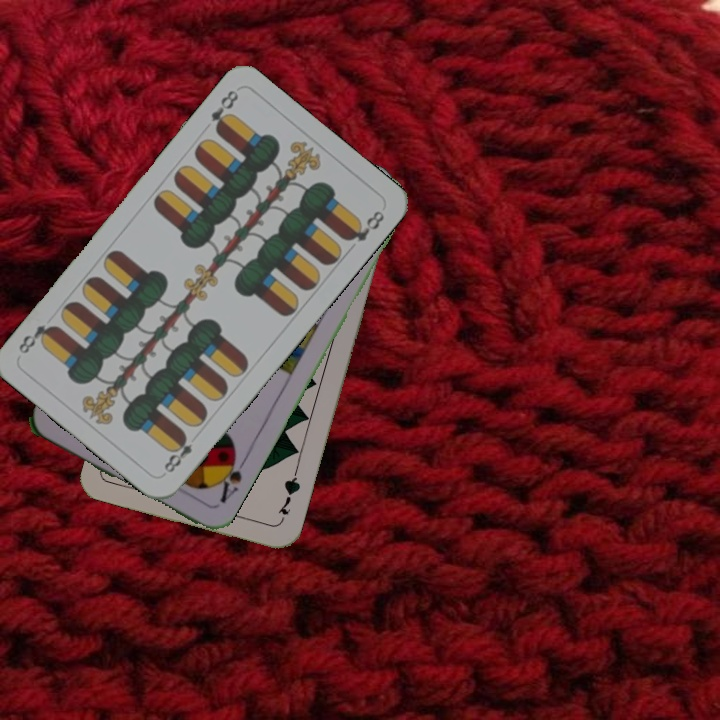E8: (206, 86, 241, 136), (159, 429, 196, 476)
G7: (274, 468, 303, 526)
SA: (210, 450, 249, 506)
